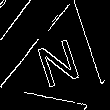N_S: (35, 35, 87, 97)
